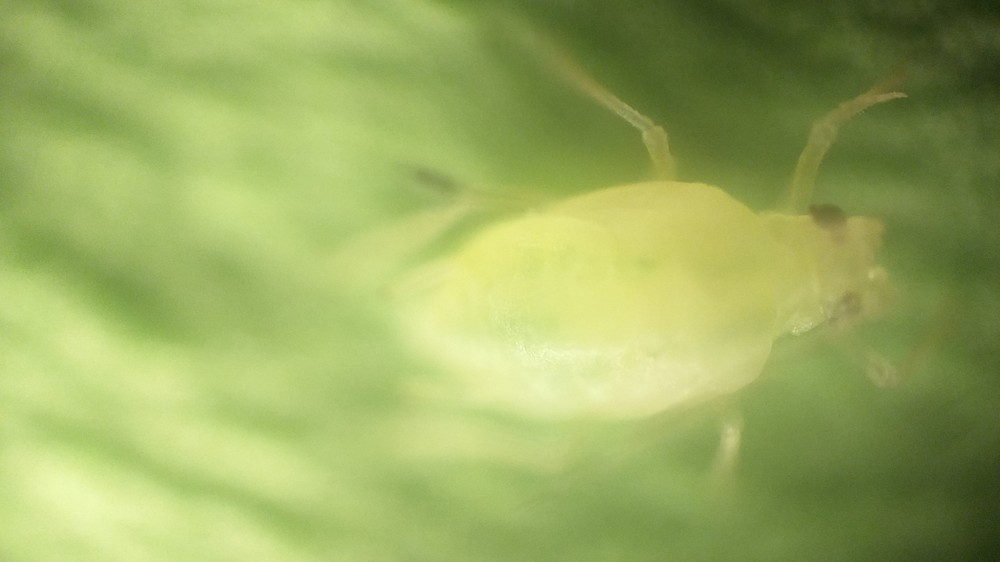Pulgon: (301, 36, 989, 537)
